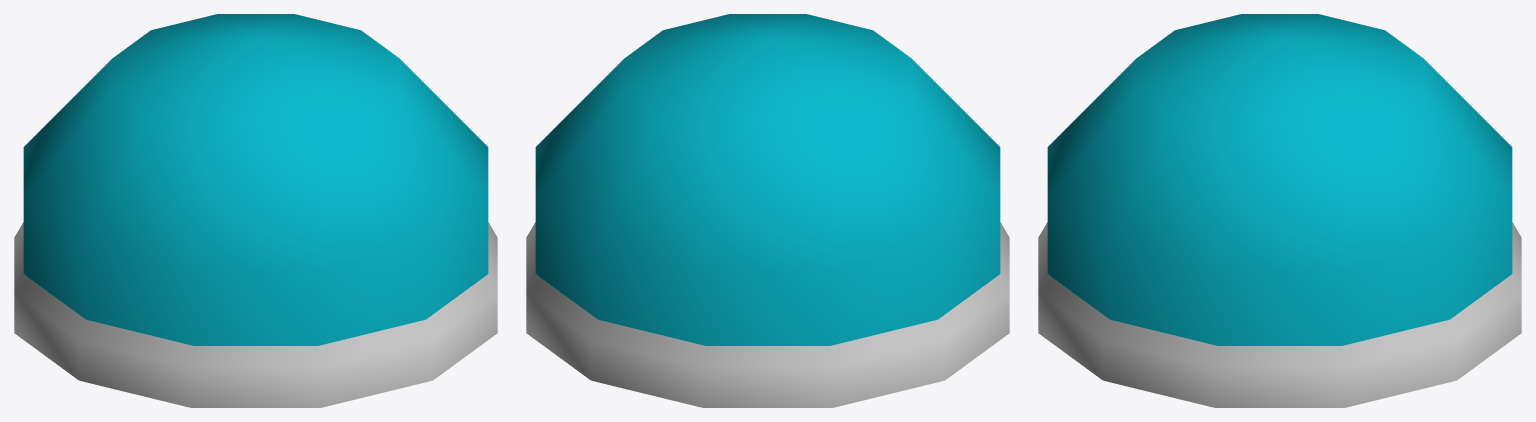
Rendered from Hemisphere_Aquarium .fbx.
3 renders of one model, left to right at view 1: azimuth 30°, elevation 25°; view 2: azimuth 150°, elevation 25°; view 3: azimuth 270°, elevation 25°, orthographic.
Parts seen in each view (by area): view 1: Hemisphere_Aquarium_; view 2: Hemisphere_Aquarium_; view 3: Hemisphere_Aquarium_.
Boxes of the visible parts, x1=… form: Hemisphere_Aquarium_: x1=14, y1=14, x2=497, y2=407; Hemisphere_Aquarium_: x1=526, y1=14, x2=1009, y2=407; Hemisphere_Aquarium_: x1=1038, y1=14, x2=1521, y2=407.
Bounding box in the file's own units: 77859 × 47256 × 77859.
